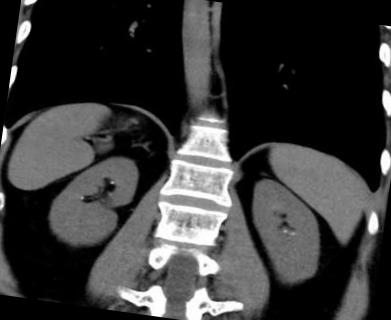Tas_Var: (106, 179, 118, 185), (78, 194, 86, 202), (289, 230, 298, 236), (282, 228, 288, 234)
